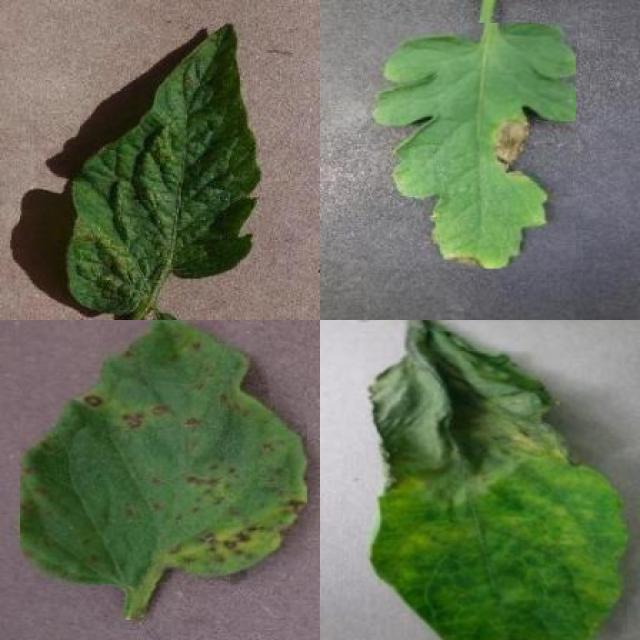Late Blight: (366, 320, 627, 640), (368, 23, 576, 268)
Septoria: (20, 321, 307, 586)
Spider Mites: (66, 21, 263, 316)
